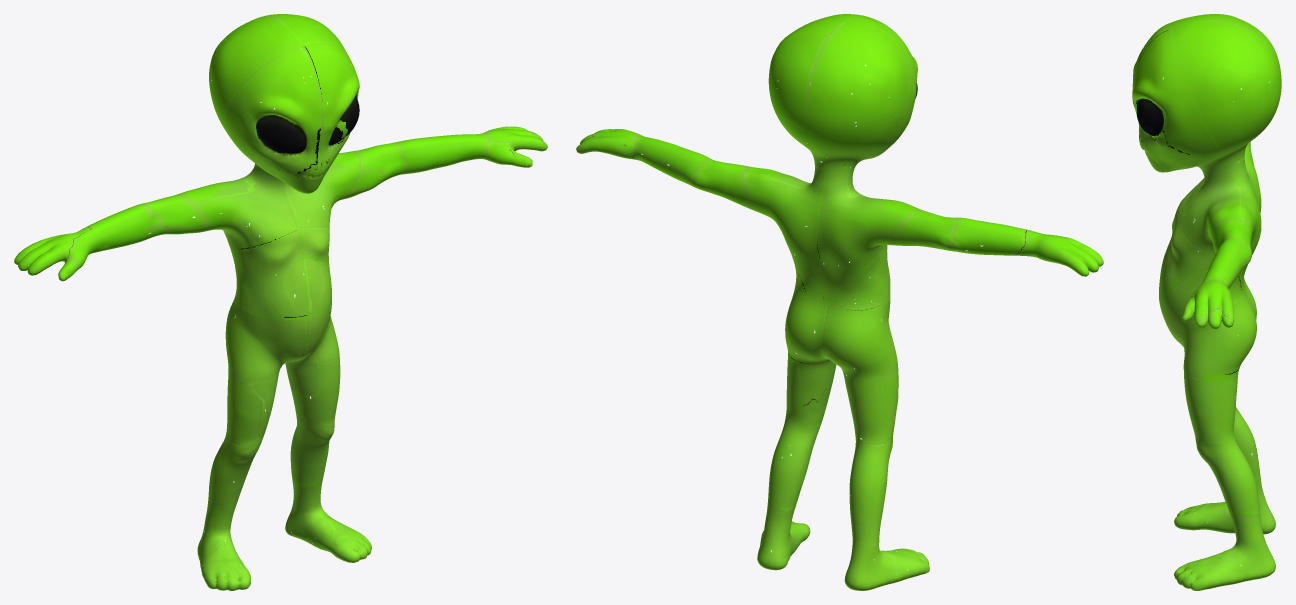
The model's file is alien.glb.
The picture shows the model from 3 angles, left to right: view 1: azimuth 30°, elevation 25°; view 2: azimuth 150°, elevation 25°; view 3: azimuth 270°, elevation 25°; orthographic projection.
Parts seen in each view (by area): view 1: tripo_node_ce6e9787-80b5-4579-8fc9-51ee3fd35b85; view 2: tripo_node_ce6e9787-80b5-4579-8fc9-51ee3fd35b85; view 3: tripo_node_ce6e9787-80b5-4579-8fc9-51ee3fd35b85.
Part boxes in pixels (left/top/right/bottom): tripo_node_ce6e9787-80b5-4579-8fc9-51ee3fd35b85: left=14, top=14, right=547, bottom=590; tripo_node_ce6e9787-80b5-4579-8fc9-51ee3fd35b85: left=576, top=14, right=1103, bottom=590; tripo_node_ce6e9787-80b5-4579-8fc9-51ee3fd35b85: left=1132, top=14, right=1281, bottom=590.
Bounding box in the file's own units: 0.9798 × 0.9712 × 0.2464.
1 material, 1 textured.
